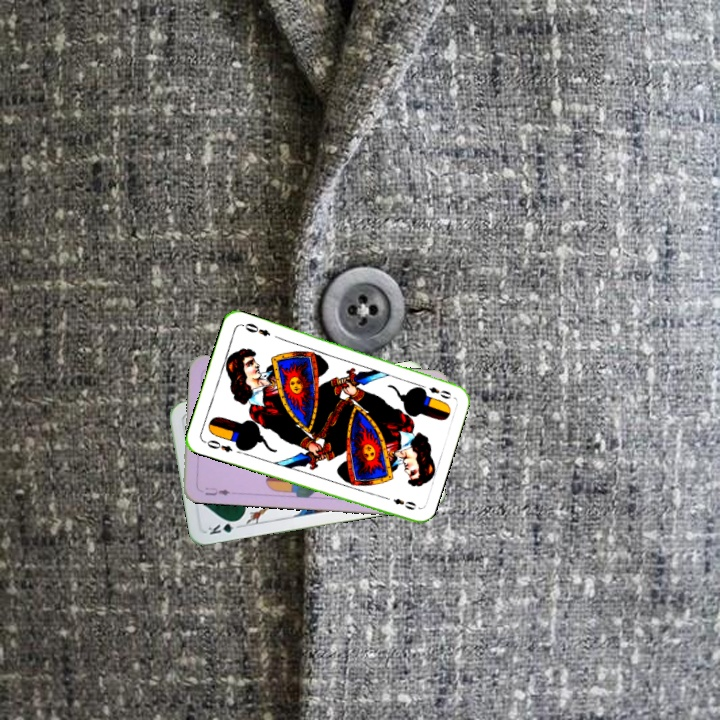EO: (416, 380, 454, 402), (200, 436, 235, 455)
EU: (201, 483, 232, 498)
GK: (204, 516, 244, 537)
